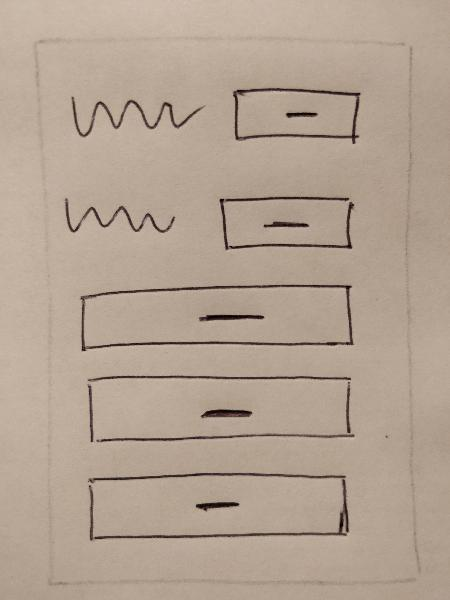button: (70, 277, 363, 354), (81, 370, 358, 445), (77, 468, 354, 543), (224, 77, 374, 161), (212, 177, 362, 261)
text: (65, 84, 210, 149), (55, 177, 200, 242)
